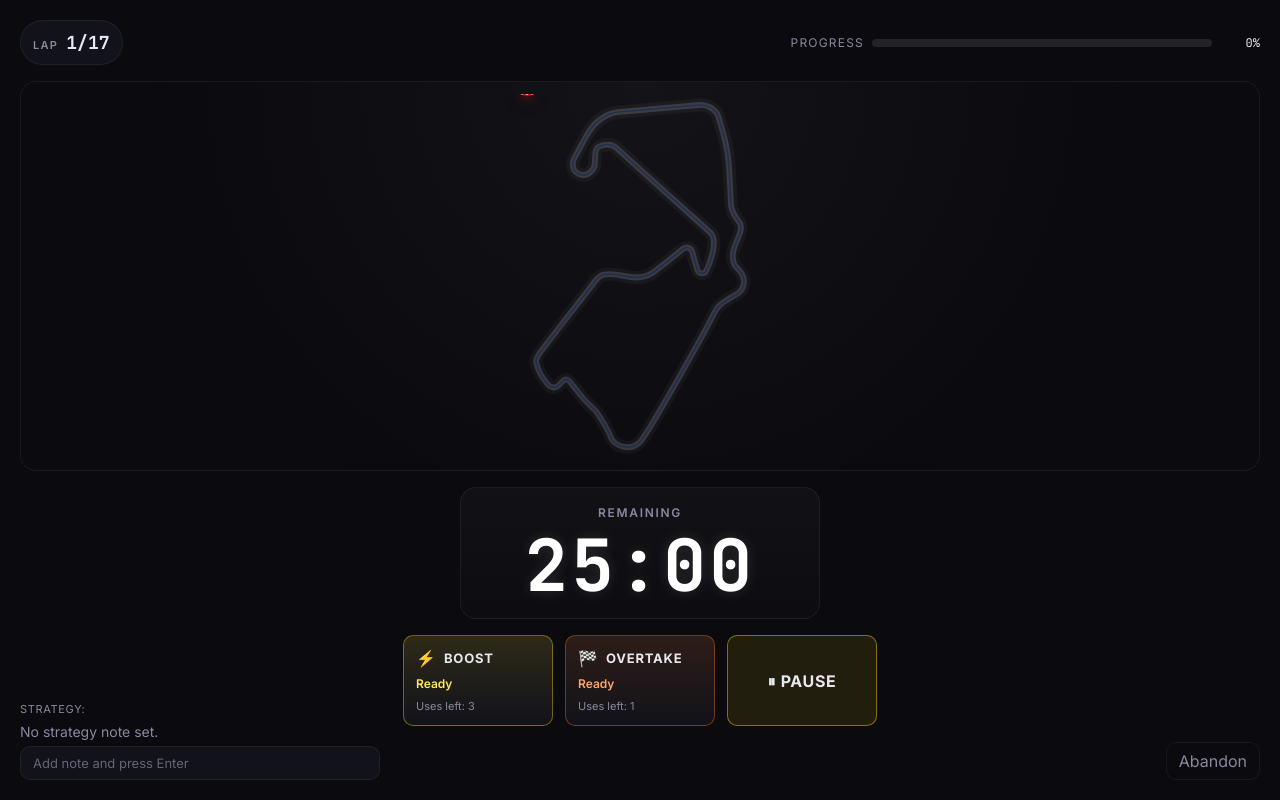
RaceScreen running session › adds a strategy note from the race HUD
In the field named "Add strategy note": (200, 763) [20, 746, 380, 780], type "Push now"
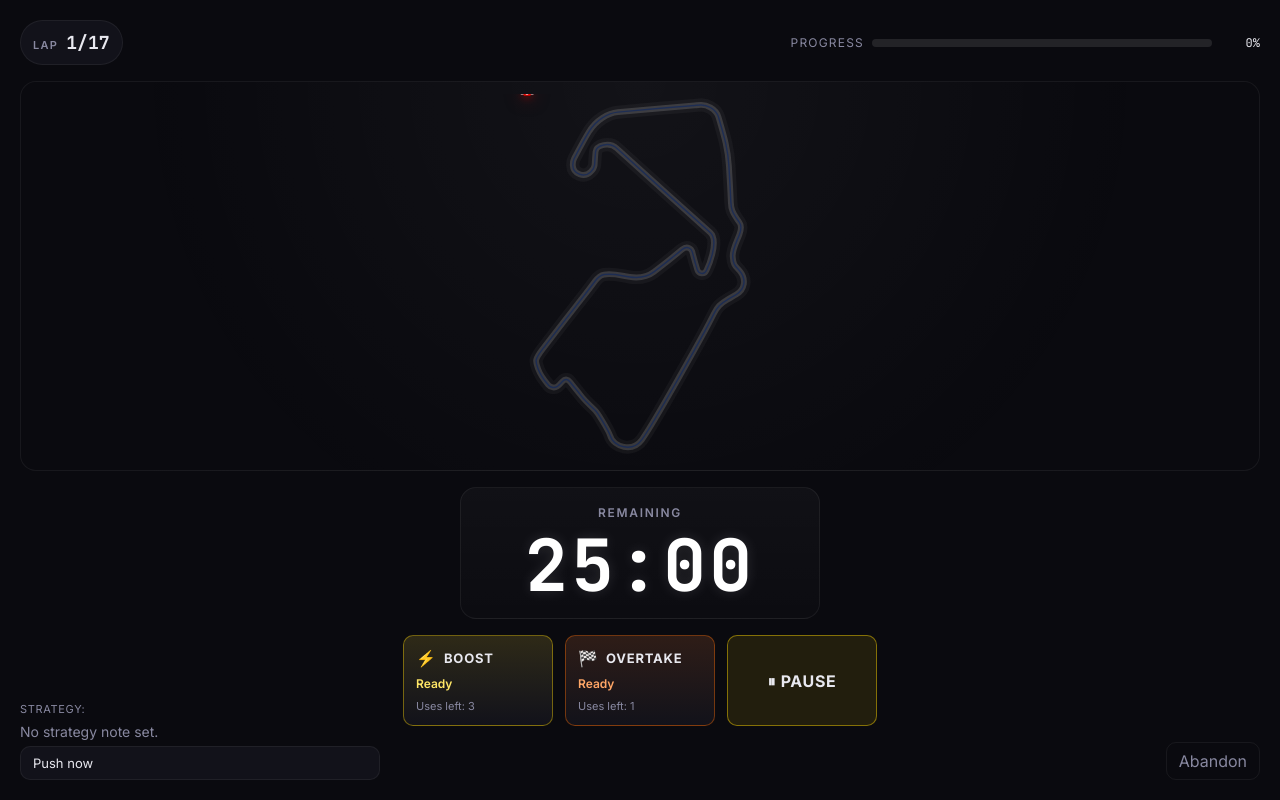
Press Enter in the field named "Add strategy note", box [20, 746, 380, 780]
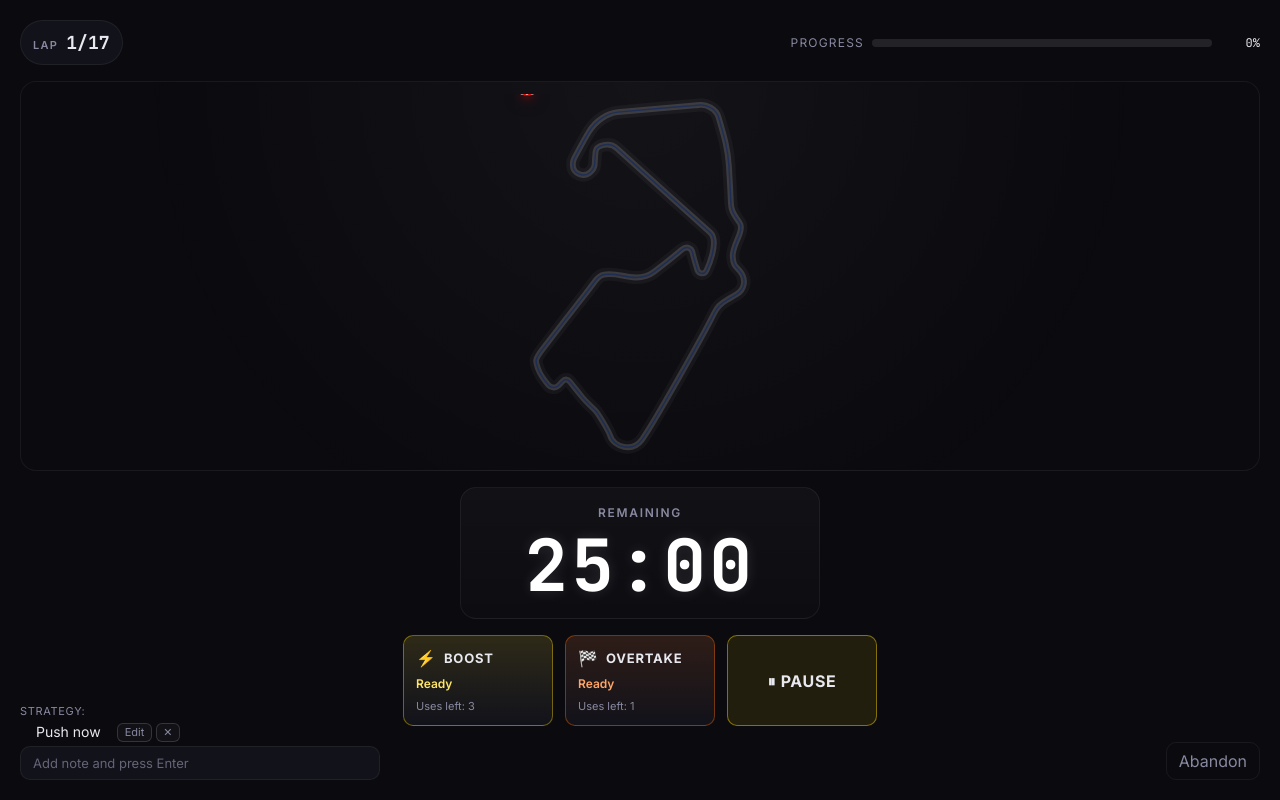
Result: the text "Push now" is shown at [36, 723, 101, 742]
